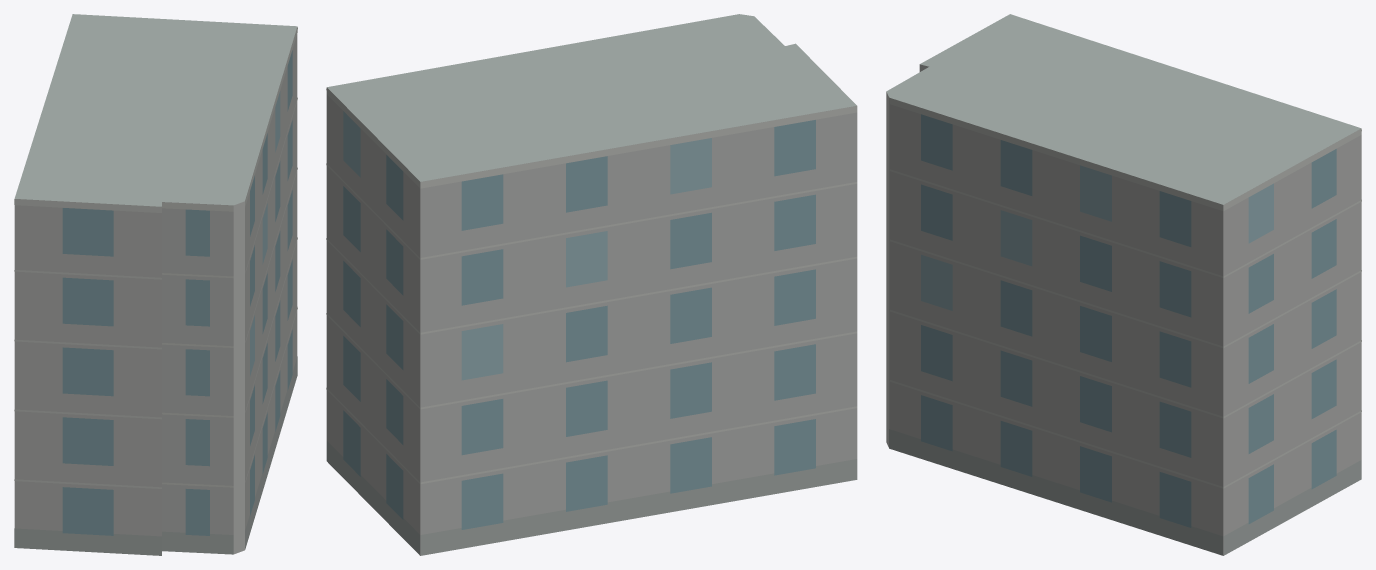
The model's file is survey-upis-32630265.glb.
The picture shows the model from 3 angles, left to right: view 1: azimuth 30°, elevation 25°; view 2: azimuth 150°, elevation 25°; view 3: azimuth 270°, elevation 25°; orthographic projection. The views are drawn at different scales.
Parts seen in each view (by area): view 1: survey-upis-32630265.tmp; view 2: survey-upis-32630265.tmp; view 3: survey-upis-32630265.tmp.
Part boxes in pixels (x1,y1,x2,y2): survey-upis-32630265.tmp: (14,14,297,555); survey-upis-32630265.tmp: (326,14,857,555); survey-upis-32630265.tmp: (886,14,1361,555).
Size of the model in its own units: 15.71 by 13.45 by 16.53.
